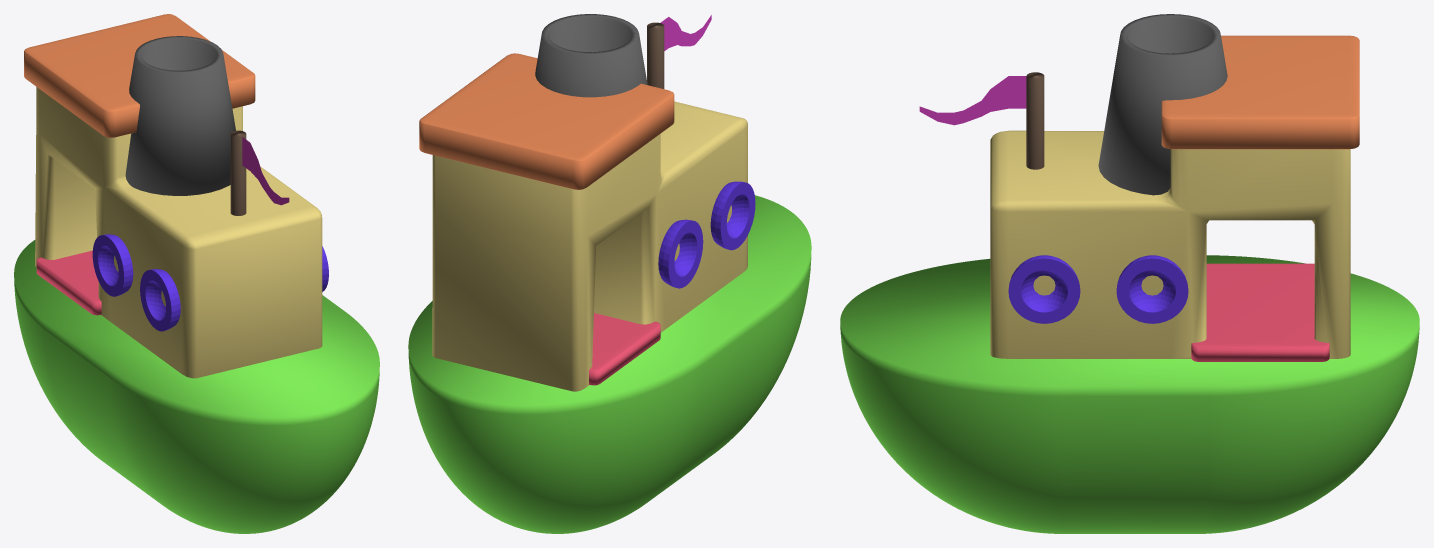
Rendered from boat1.glb.
3 views of the same model, side by side, from view 1: azimuth 30°, elevation 25°; view 2: azimuth 150°, elevation 25°; view 3: azimuth 270°, elevation 25° (orthographic). The views are drawn at different scales.
Visible parts, largest first — view 1: Sphere, Cube, Cylinder, Cube.001, Sphere.001, Cube.002, Cylinder.001, Plane; view 2: Sphere, Cube, Cube.001, Cylinder, Sphere.001, Cube.002, Cylinder.001, Plane; view 3: Sphere, Cube, Cube.001, Cylinder, Cube.002, Sphere.001, Plane, Cylinder.001.
Part boxes in pixels (x1=…): Sphere: x1=14, y1=240, x2=379, y2=533; Cube: x1=35, y1=87, x2=322, y2=378; Cylinder: x1=125, y1=36, x2=235, y2=195; Cube.001: x1=24, y1=14, x2=255, y2=137; Sphere.001: x1=92, y1=234, x2=328, y2=331; Cube.002: x1=36, y1=250, x2=101, y2=315; Cylinder.001: x1=230, y1=130, x2=246, y2=215; Plane: x1=242, y1=137, x2=289, y2=205; Sphere: x1=408, y1=195, x2=811, y2=533; Cube: x1=432, y1=101, x2=747, y2=391; Cube.001: x1=419, y1=53, x2=674, y2=189; Cylinder: x1=535, y1=14, x2=647, y2=97; Sphere.001: x1=658, y1=181, x2=755, y2=288; Cube.002: x1=589, y1=313, x2=660, y2=385; Cylinder.001: x1=647, y1=22, x2=664, y2=88; Plane: x1=660, y1=15, x2=711, y2=50; Sphere: x1=840, y1=255, x2=1419, y2=533; Cube: x1=990, y1=130, x2=1350, y2=358; Cube.001: x1=1161, y1=35, x2=1359, y2=149; Cylinder: x1=1098, y1=14, x2=1227, y2=195; Cube.002: x1=1191, y1=263, x2=1329, y2=361; Sphere.001: x1=1008, y1=255, x2=1188, y2=323; Plane: x1=919, y1=76, x2=1026, y2=125; Cylinder.001: x1=1026, y1=72, x2=1044, y2=169.
Bounding box in the file's own units: 3.46 × 5.99 × 6.44.
